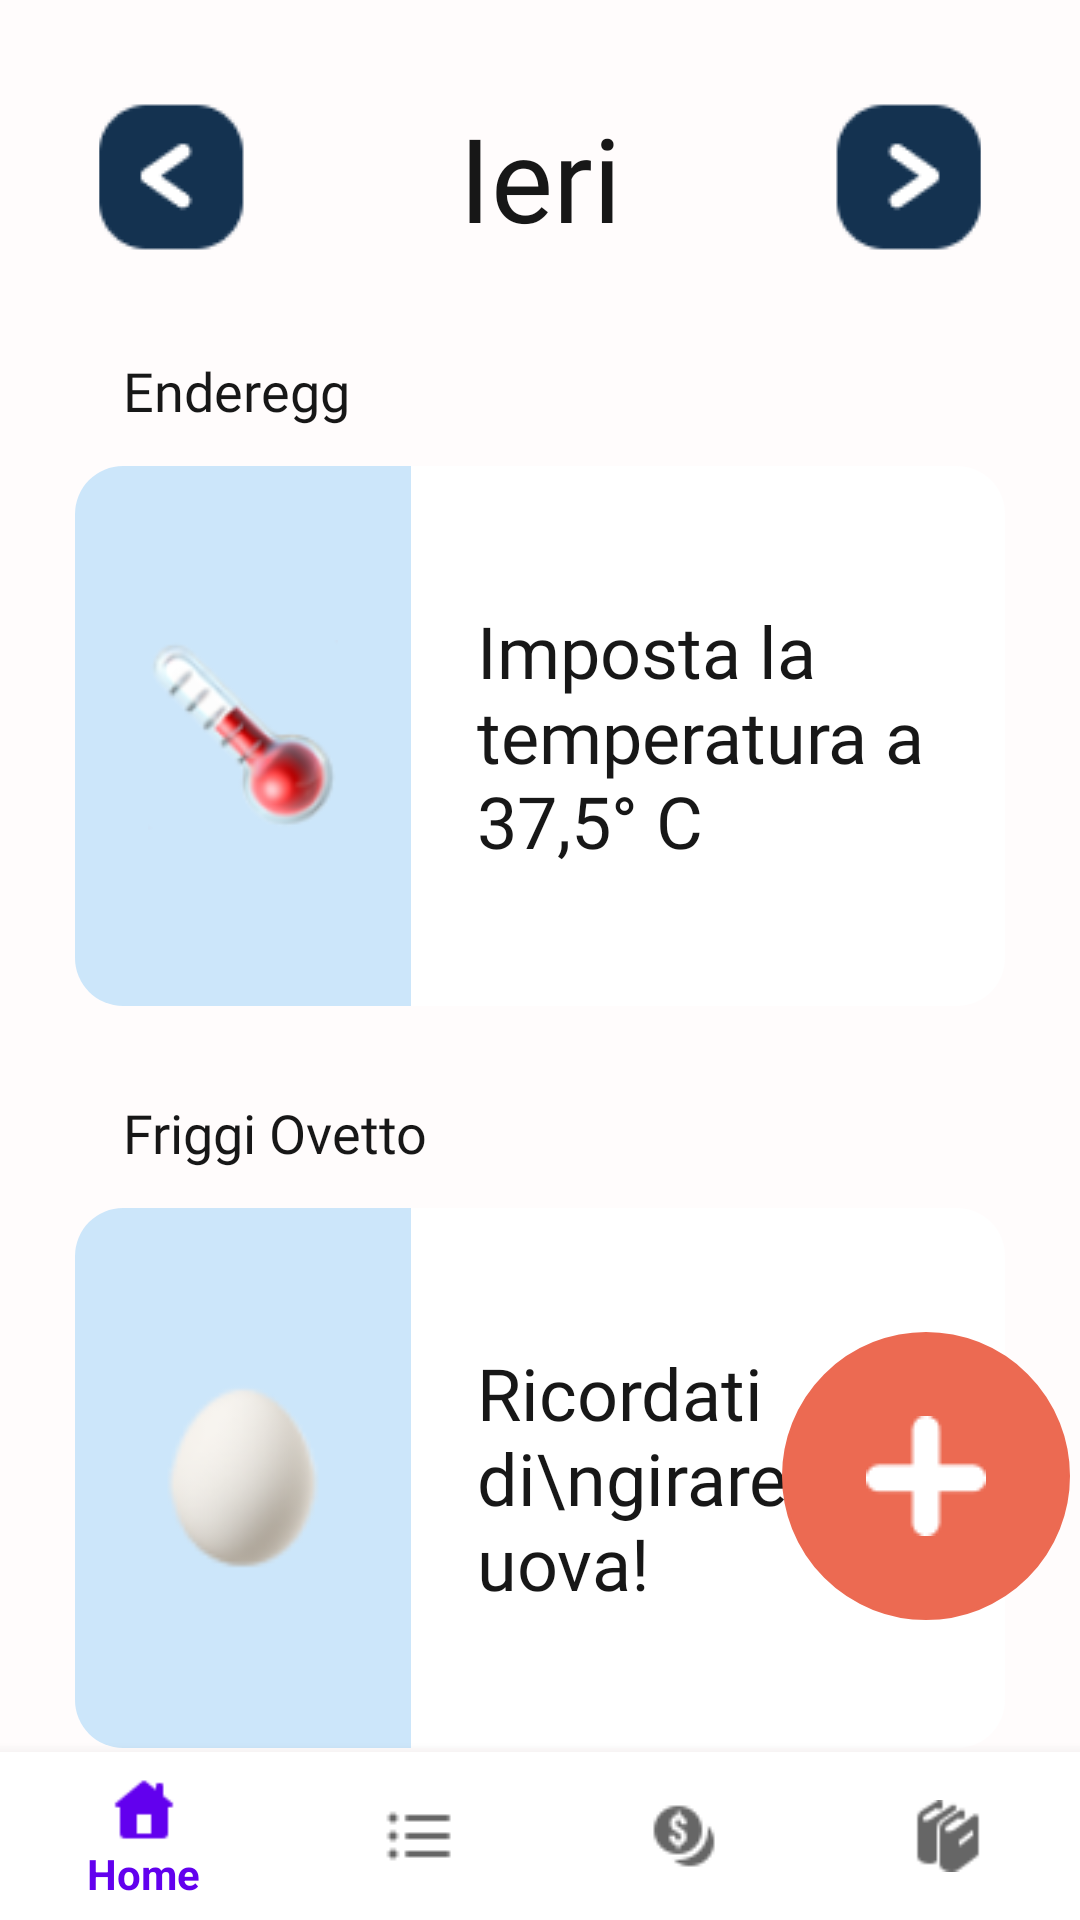

Where icons sit on this 1080x1920 app screen, as (x1, y1, x2, y2):
icona ov: (172, 1391, 314, 1567)
icona termometro: (158, 654, 333, 823)
